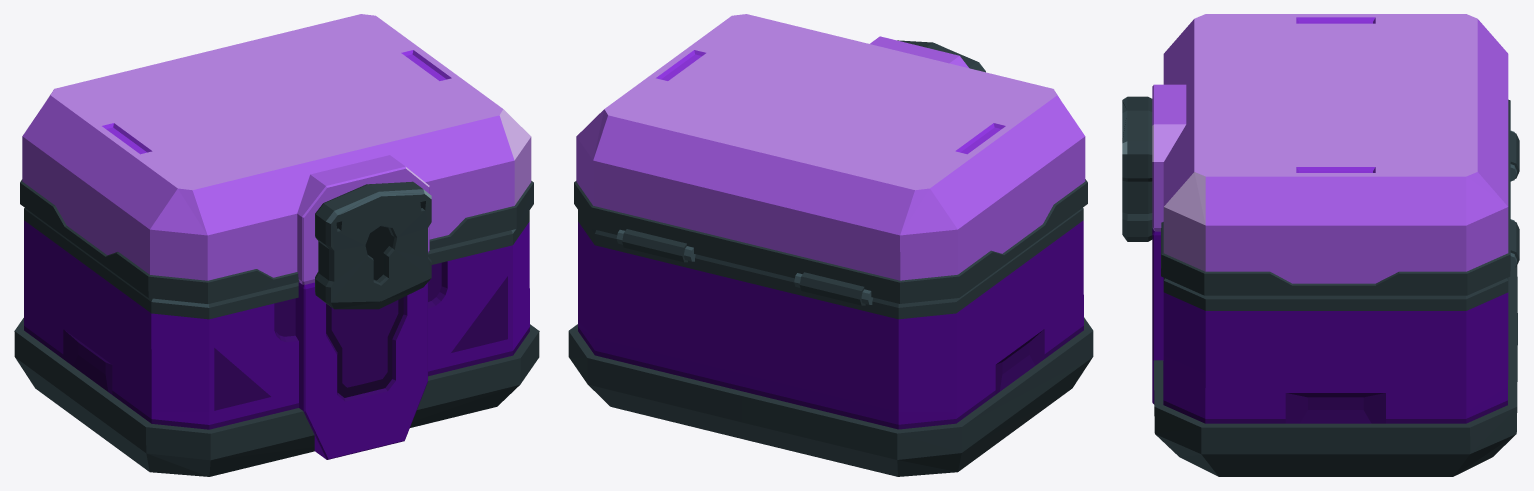
The model's file is Icon_Box_BOXNORMAL_G4_02.fbx.
3 views of the same model, side by side, from view 1: azimuth 30°, elevation 25°; view 2: azimuth 150°, elevation 25°; view 3: azimuth 270°, elevation 25° (orthographic). The views are drawn at different scales.
Visible parts, largest first — view 1: Object003, BOX_MATERAL_G4_01, Object004; view 2: Object003, BOX_MATERAL_G4_01; view 3: Object003, BOX_MATERAL_G4_01, Object004.
Boxes of the visible parts, bbox=[...] form: Object003: bbox=[20, 14, 533, 303]; BOX_MATERAL_G4_01: bbox=[14, 208, 539, 476]; Object004: bbox=[315, 181, 431, 309]; Object003: bbox=[574, 14, 1087, 305]; BOX_MATERAL_G4_01: bbox=[568, 208, 1093, 476]; Object003: bbox=[1152, 14, 1519, 295]; BOX_MATERAL_G4_01: bbox=[1152, 228, 1517, 476]; Object004: bbox=[1122, 96, 1152, 241].
Bounding box in the file's own units: 185 × 128 × 158.
1 material, 1 textured.
